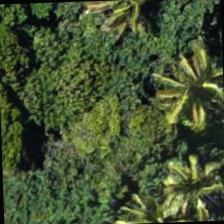Kelapa_Sawit: (136, 137, 223, 224), (148, 44, 223, 138), (82, 0, 175, 51)
